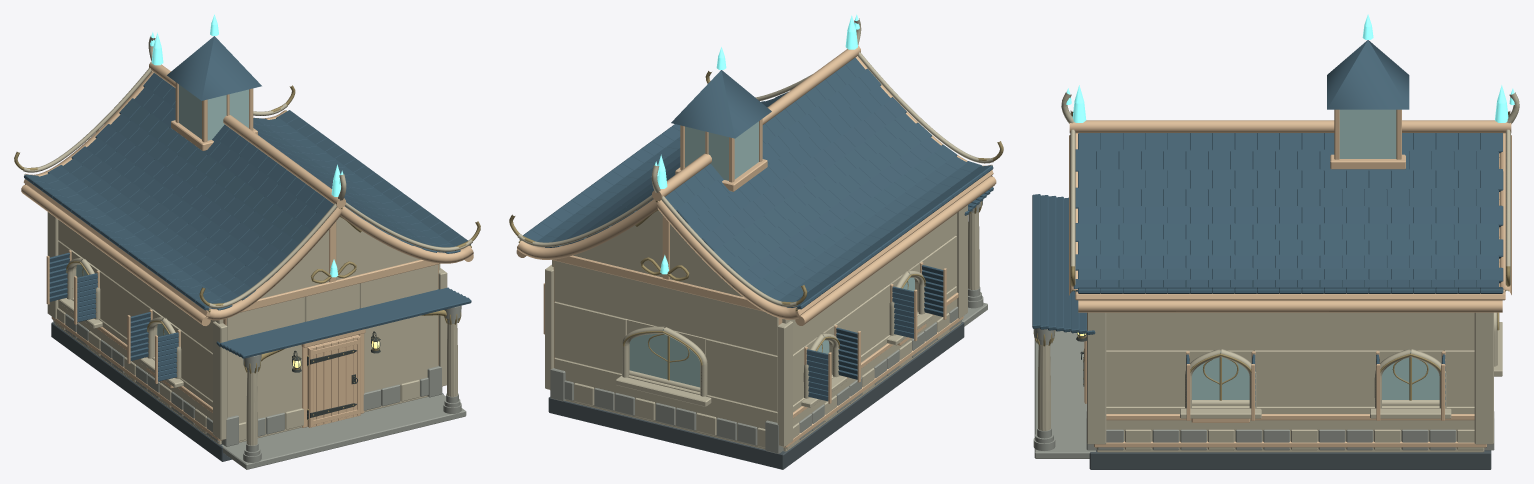
File: watercourt.glb
The picture shows the model from 3 angles, left to right: view 1: azimuth 30°, elevation 25°; view 2: azimuth 150°, elevation 25°; view 3: azimuth 270°, elevation 25°; orthographic projection. The views are drawn at different scales.
Parts seen in each view (by area): view 1: 旧月书记馆 · roof, 旧月书记馆 · plaster, 旧月书记馆 · wood, 旧月书记馆 · pale, 旧月书记馆 · stone, 旧月书记馆 · 正门 · wood, 临水百叶窗 · roof (×4), 旧月书记馆 · darkstone, 旧月书记馆 · windowglass, 旧月书记馆 · trim, 旧月书记馆 · azure, 旧月书记馆 · 正门 · iron; view 2: 旧月书记馆 · roof, 旧月书记馆 · plaster, 旧月书记馆 · pale, 旧月书记馆 · wood, 旧月书记馆 · darkstone, 旧月书记馆 · stone, 旧月书记馆 · windowglass, 临水百叶窗 · roof (×4), 旧月书记馆 · trim, 旧月书记馆 · azure; view 3: 旧月书记馆 · roof, 旧月书记馆 · plaster, 旧月书记馆 · wood, 旧月书记馆 · pale, 旧月书记馆 · stone, 旧月书记馆 · darkstone, 旧月书记馆 · windowglass, 旧月书记馆 · trim, 旧月书记馆 · azure.
Boxes of the visible parts, x1,y1,x2,y2 form: 旧月书记馆 · roof: [24, 36, 471, 358]; 旧月书记馆 · plaster: [54, 217, 440, 444]; 旧月书记馆 · wood: [21, 61, 473, 441]; 旧月书记馆 · pale: [23, 36, 472, 445]; 旧月书记馆 · stone: [65, 305, 466, 469]; 旧月书记馆 · 正门 · wood: [307, 335, 360, 427]; 临水百叶窗 · roof (×4): [49, 252, 178, 381]; 旧月书记馆 · darkstone: [51, 322, 443, 461]; 旧月书记馆 · windowglass: [76, 84, 248, 336]; 旧月书记馆 · trim: [14, 72, 480, 373]; 旧月书记馆 · azure: [150, 14, 343, 277]; 旧月书记馆 · 正门 · iron: [307, 349, 357, 419]; 旧月书记馆 · roof: [519, 57, 993, 309]; 旧月书记馆 · plaster: [552, 210, 960, 451]; 旧月书记馆 · pale: [517, 18, 993, 449]; 旧月书记馆 · wood: [516, 46, 996, 447]; 旧月书记馆 · darkstone: [548, 322, 964, 469]; 旧月书记馆 · stone: [550, 201, 987, 453]; 旧月书记馆 · windowglass: [629, 121, 914, 387]; 临水百叶窗 · roof (×4): [806, 265, 943, 401]; 旧月书记馆 · trim: [509, 71, 1003, 380]; 旧月书记馆 · azure: [654, 14, 859, 274]; 旧月书记馆 · roof: [1032, 40, 1503, 334]; 旧月书记馆 · plaster: [1096, 312, 1484, 452]; 旧月书记馆 · wood: [1069, 109, 1511, 447]; 旧月书记馆 · pale: [1038, 92, 1519, 450]; 旧月书记馆 · stone: [1033, 328, 1494, 458]; 旧月书记馆 · darkstone: [1089, 450, 1491, 469]; 旧月书记馆 · windowglass: [1192, 109, 1439, 399]; 旧月书记馆 · trim: [1033, 110, 1510, 400]; 旧月书记馆 · azure: [1066, 14, 1514, 122].
Size of the model in its own units: 9.81 by 11.18 by 12.57.
